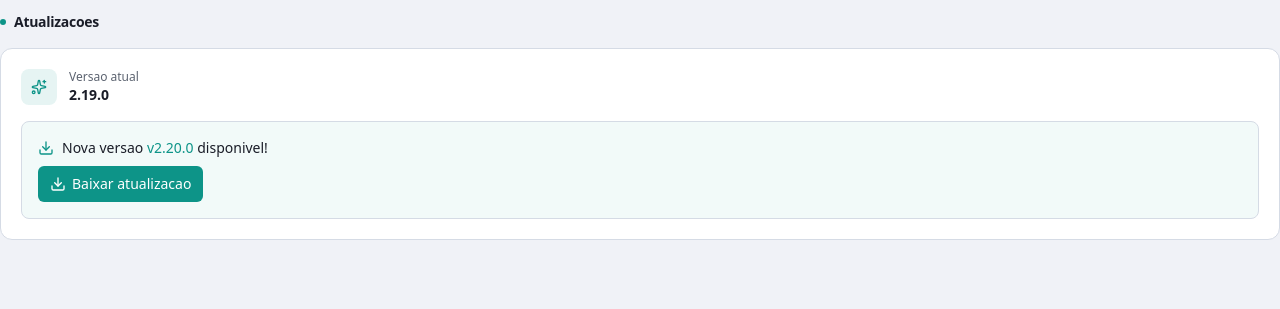
Test case: UpdatesSection — download e instalação › mostra o erro de download e permite tentar de novo
Click the button "Baixar atualizacao": (121, 184) [38,166,203,202]
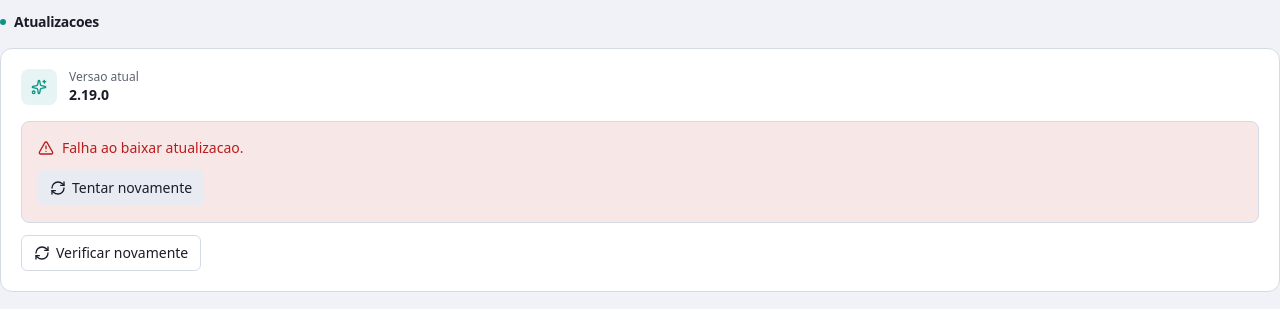
Expected: the message shows "Falha ao baixar atualizacao.", [62,138,244,157]
Click the button "Tentar novamente": (121, 188) [38,170,204,206]
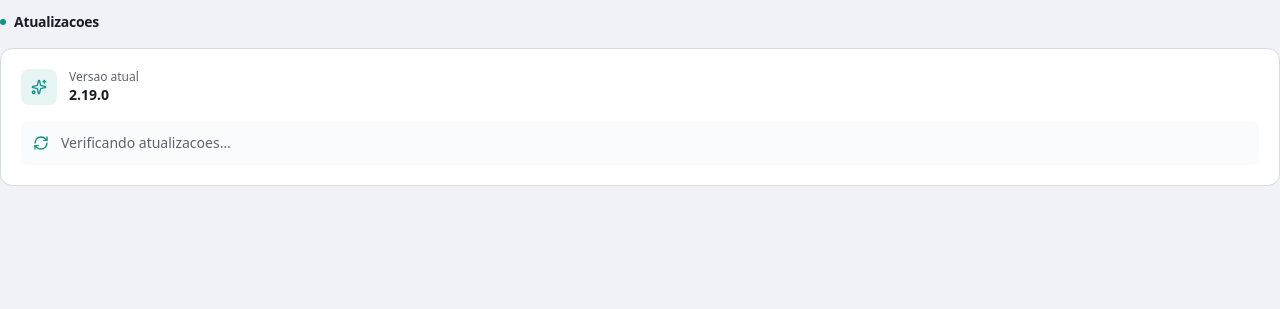
Expected: the message reads "Verificando atualizacoes…", [61,133,231,152]
